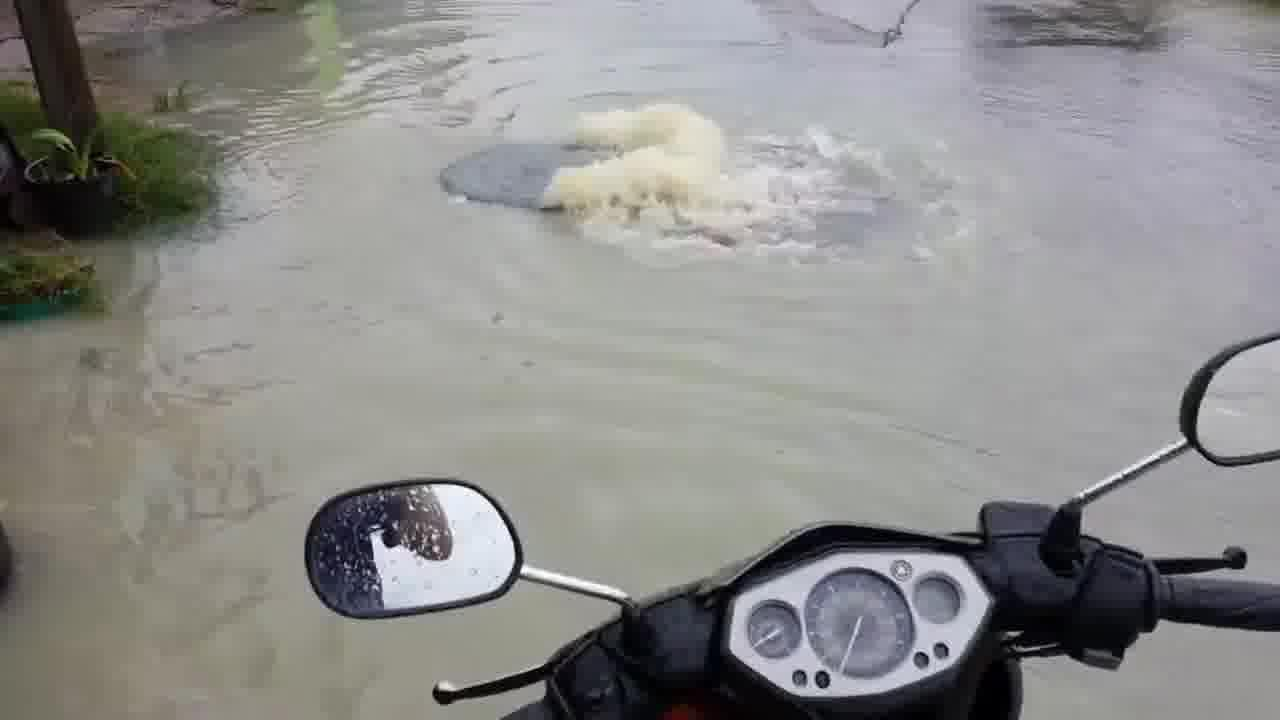drainage overflow-repair-: (417, 90, 852, 259)
